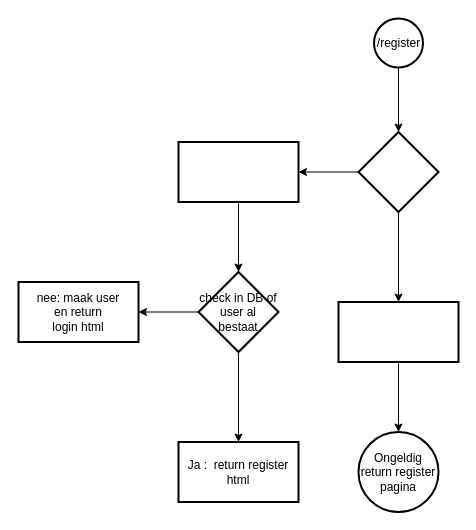
Some shapes in this 476 by 530 pixel diagram are drawn without their labels. The shapes that lost their labels are listed below. From the top down, each one's centre as x and y in pixels, then its label:
the point at 238,171: Post
the point at 398,171: wat voor method
the point at 398,331: andere
